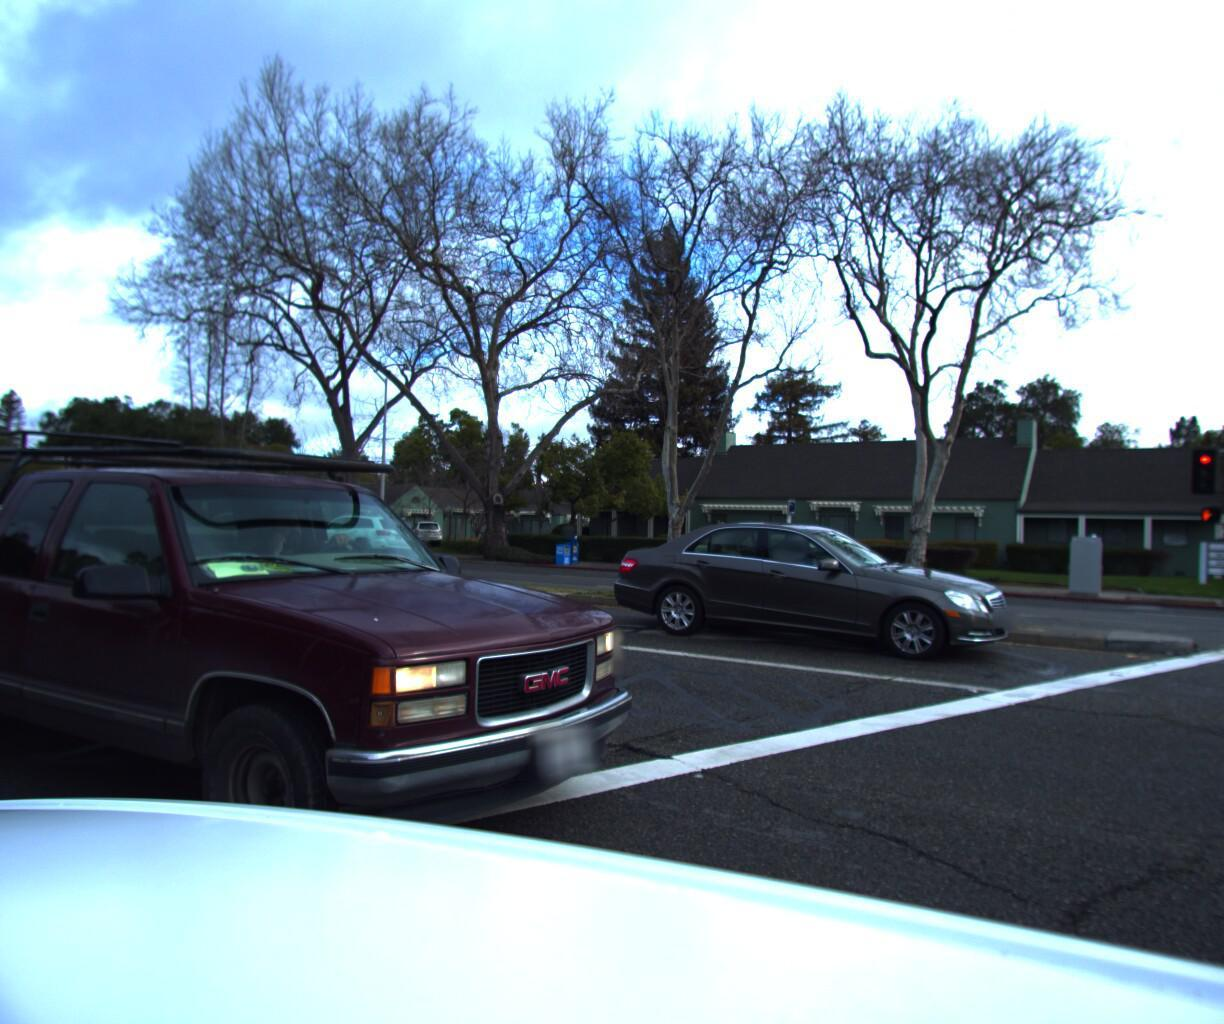car: (0, 384, 678, 973), (593, 517, 1022, 683), (293, 513, 419, 565), (0, 506, 63, 551)
